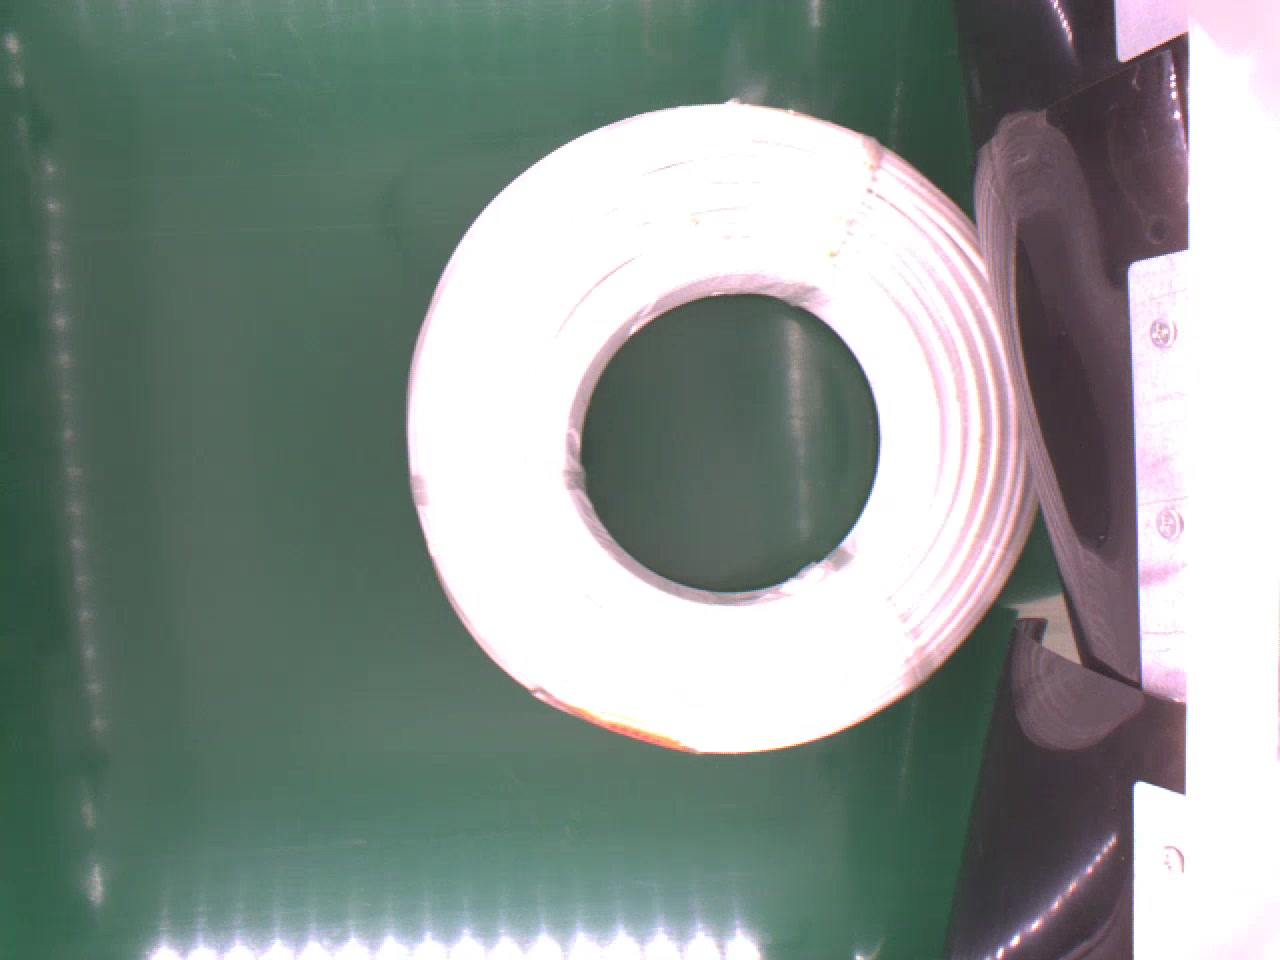white: (396, 97, 1042, 766)
